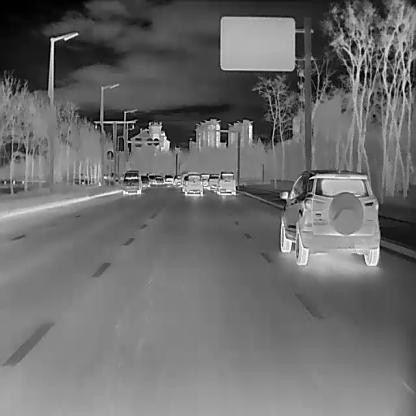car: (278, 169, 380, 264), (122, 169, 141, 194), (216, 171, 235, 194), (184, 174, 203, 195), (207, 172, 219, 188), (199, 172, 209, 188), (148, 174, 163, 184), (162, 173, 173, 184), (140, 175, 149, 186), (173, 174, 181, 184)
